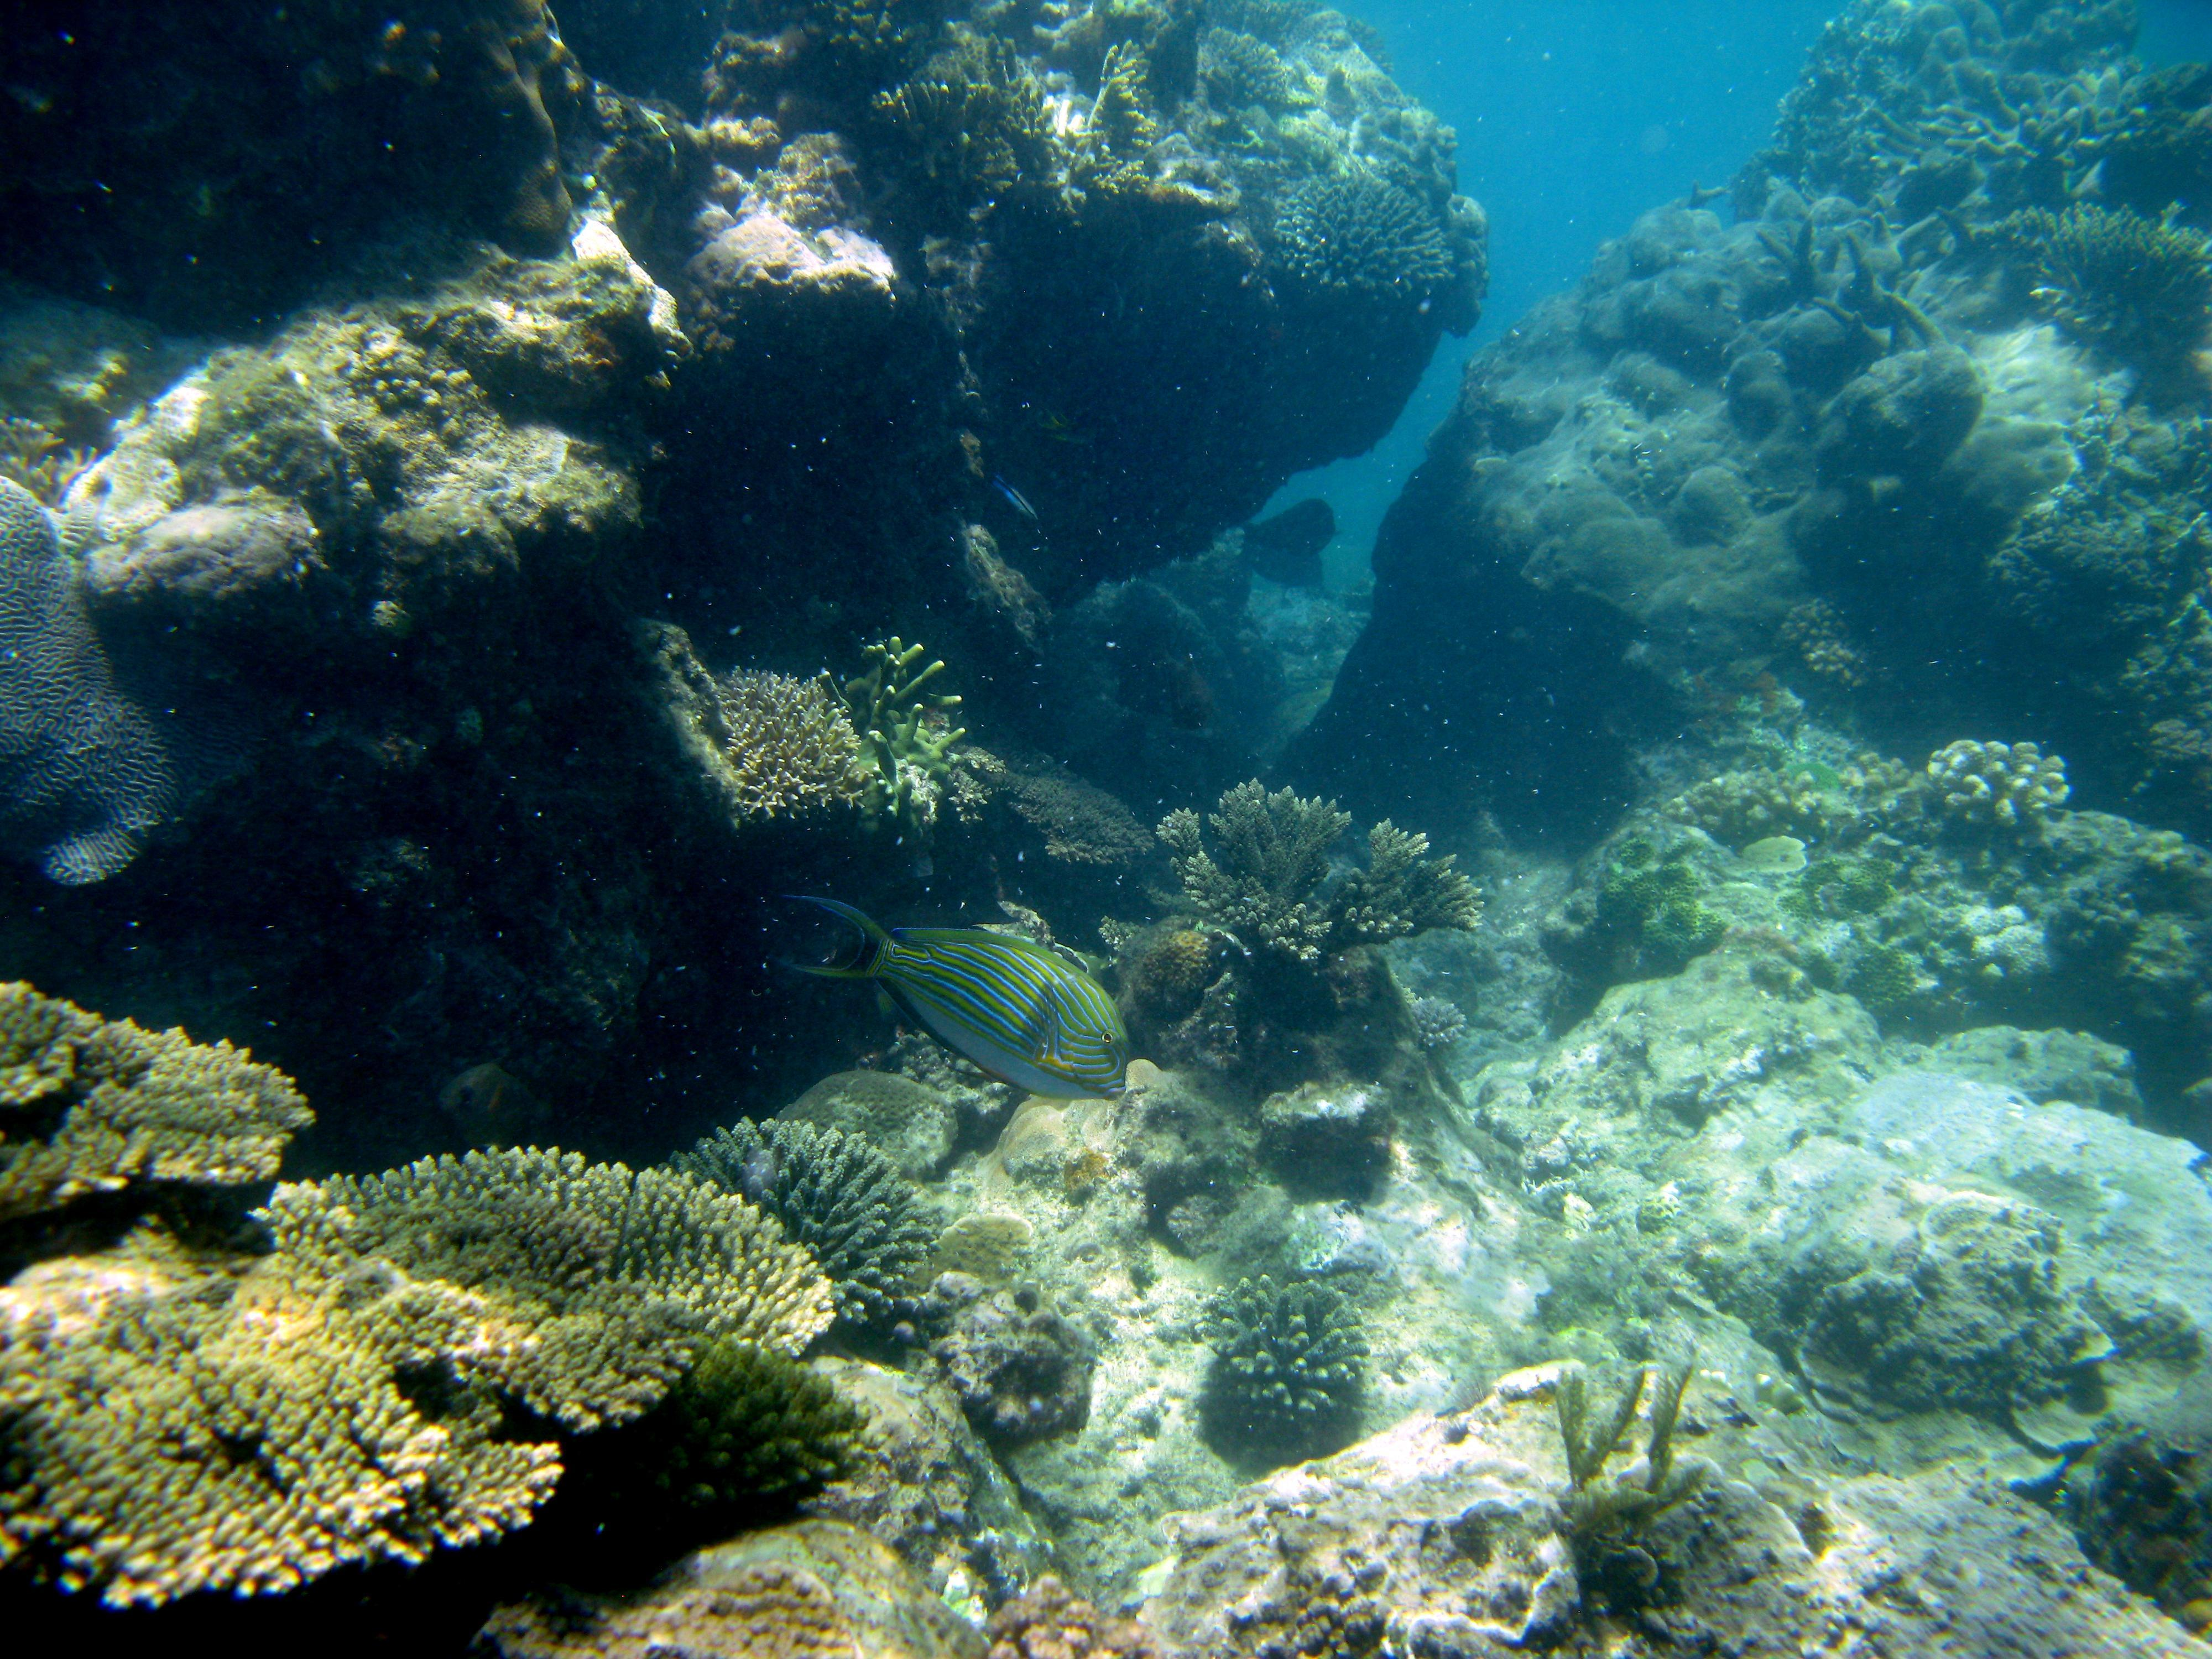Acanthurus lineatus: (728, 857, 1197, 1147)
